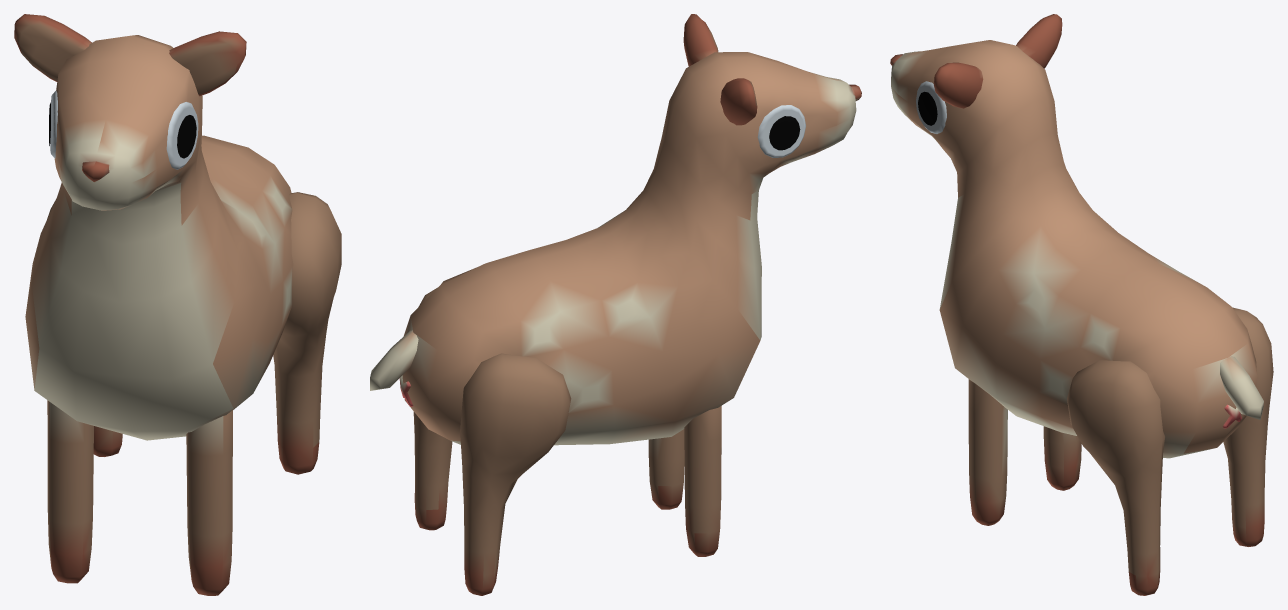
File: Deer.glb
The picture shows the model from 3 angles, left to right: view 1: azimuth 30°, elevation 25°; view 2: azimuth 150°, elevation 25°; view 3: azimuth 270°, elevation 25°; orthographic projection. The views are drawn at different scales.
Parts seen in each view (by area): view 1: 37; view 2: 37; view 3: 37.
Boxes of the visible parts, box(x1,y1,x2,y2) form: 37: box(14, 14, 341, 595); 37: box(370, 14, 861, 595); 37: box(890, 14, 1273, 595).
Bounding box in the file's own units: 0.7865 × 1.09 × 0.8307.
